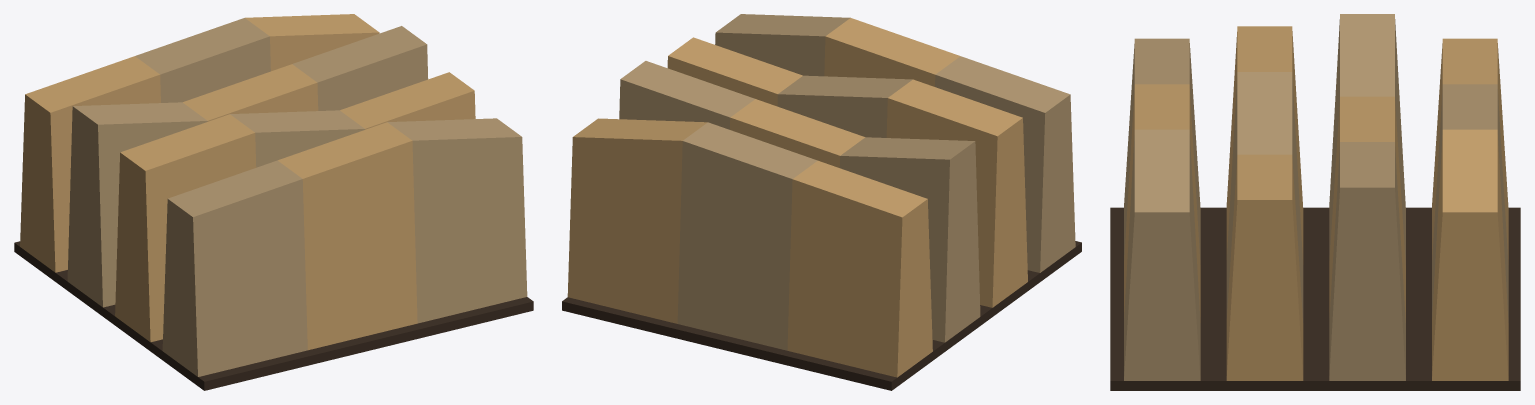
The model's file is crop_wheat.glb.
3 renders of one model, left to right at view 1: azimuth 30°, elevation 25°; view 2: azimuth 150°, elevation 25°; view 3: azimuth 270°, elevation 25°, orthographic. The views are drawn at different scales.
Parts seen in each view (by area): view 1: crop_wheat; view 2: crop_wheat; view 3: crop_wheat.
Part boxes in pixels (<box>): crop_wheat: <box>14,14,533,390</box>; crop_wheat: <box>562,14,1081,390</box>; crop_wheat: <box>1110,14,1520,390</box>.
Bounding box in the file's own units: 1.5 × 0.82 × 1.5.
Materials: 1 (1 with a texture image).
